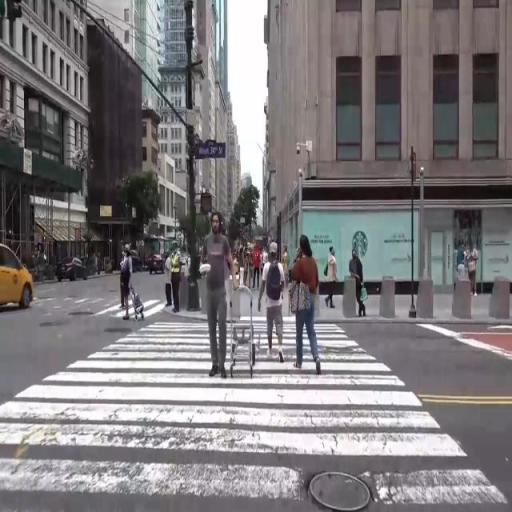person: (289, 240, 321, 384), (203, 214, 228, 391), (263, 245, 286, 377), (349, 245, 375, 321), (123, 245, 142, 327), (171, 239, 185, 312), (327, 247, 340, 313), (468, 239, 481, 297), (456, 238, 467, 287), (165, 245, 172, 305), (254, 248, 262, 291), (283, 245, 289, 283), (264, 244, 269, 262)
